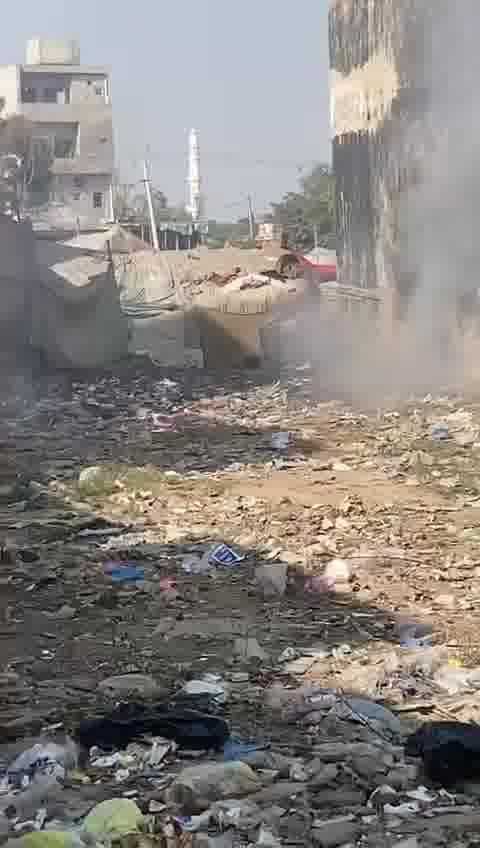garbage: (0, 374, 480, 848)
